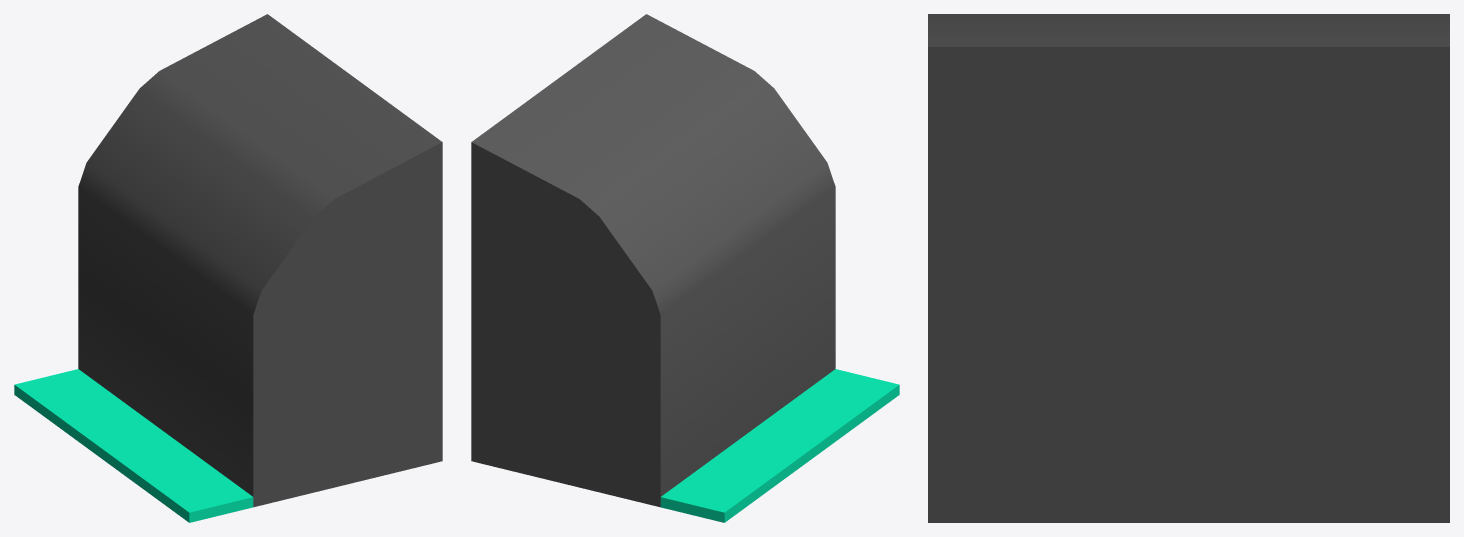
File: CorridorDownPillar_03.fbx
3 renders of one model, left to right at view 1: azimuth 30°, elevation 25°; view 2: azimuth 150°, elevation 25°; view 3: azimuth 270°, elevation 25°, orthographic. The views are drawn at different scales.
Visible parts, largest first — view 1: Box024, CorridorDownPillar_03; view 2: Box024, CorridorDownPillar_03; view 3: Box024.
Part boxes in pixels (<box>): Box024: <box>78,14,442,507</box>; CorridorDownPillar_03: <box>14,369,253,522</box>; Box024: <box>471,14,835,507</box>; CorridorDownPillar_03: <box>660,369,899,522</box>; Box024: <box>928,14,1449,522</box>.
Size of the model in its own units: 32.88 by 39.38 by 39.61.
